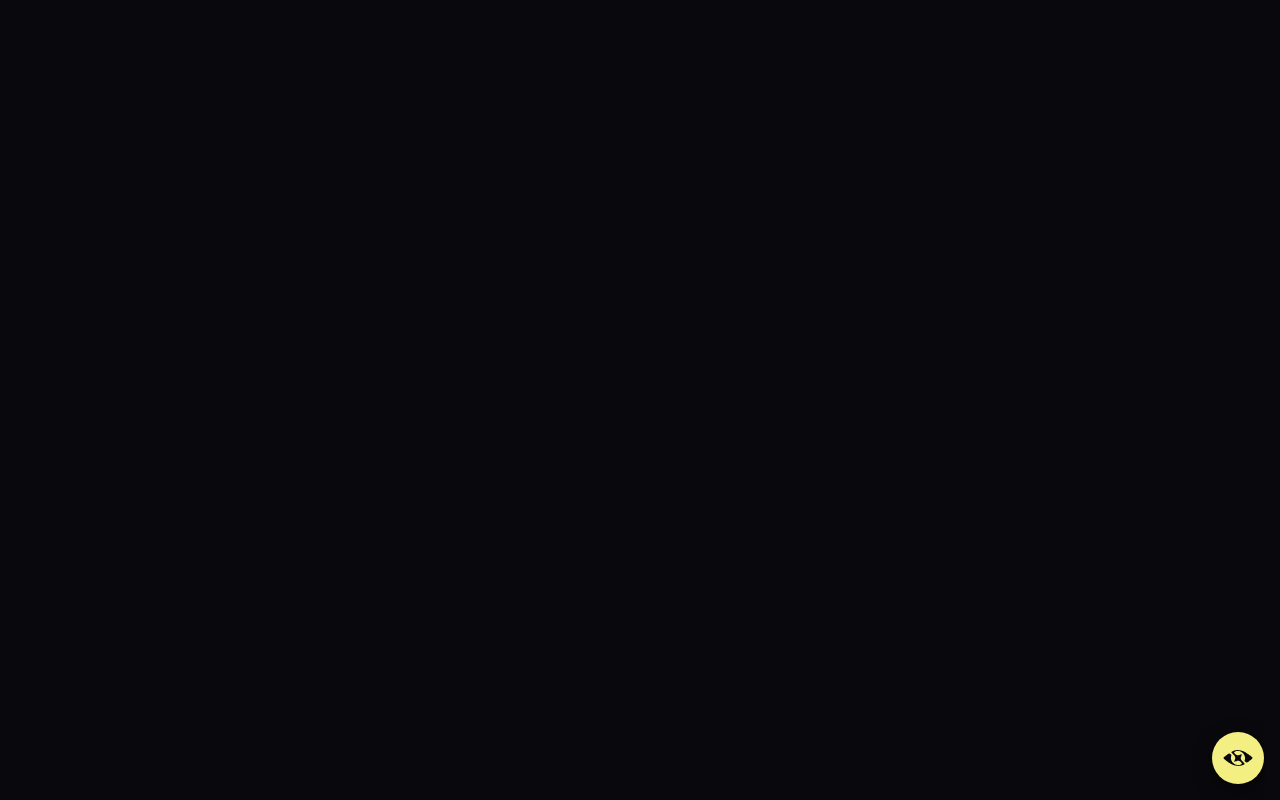
Test: StarChat › puts the target on screen first in The Eyes and does not link to it again
Later steps or results of the test are not shown.
Click the button with class "star-chat__fab". click: (1238, 758)
box: [1212,732,1264,784]
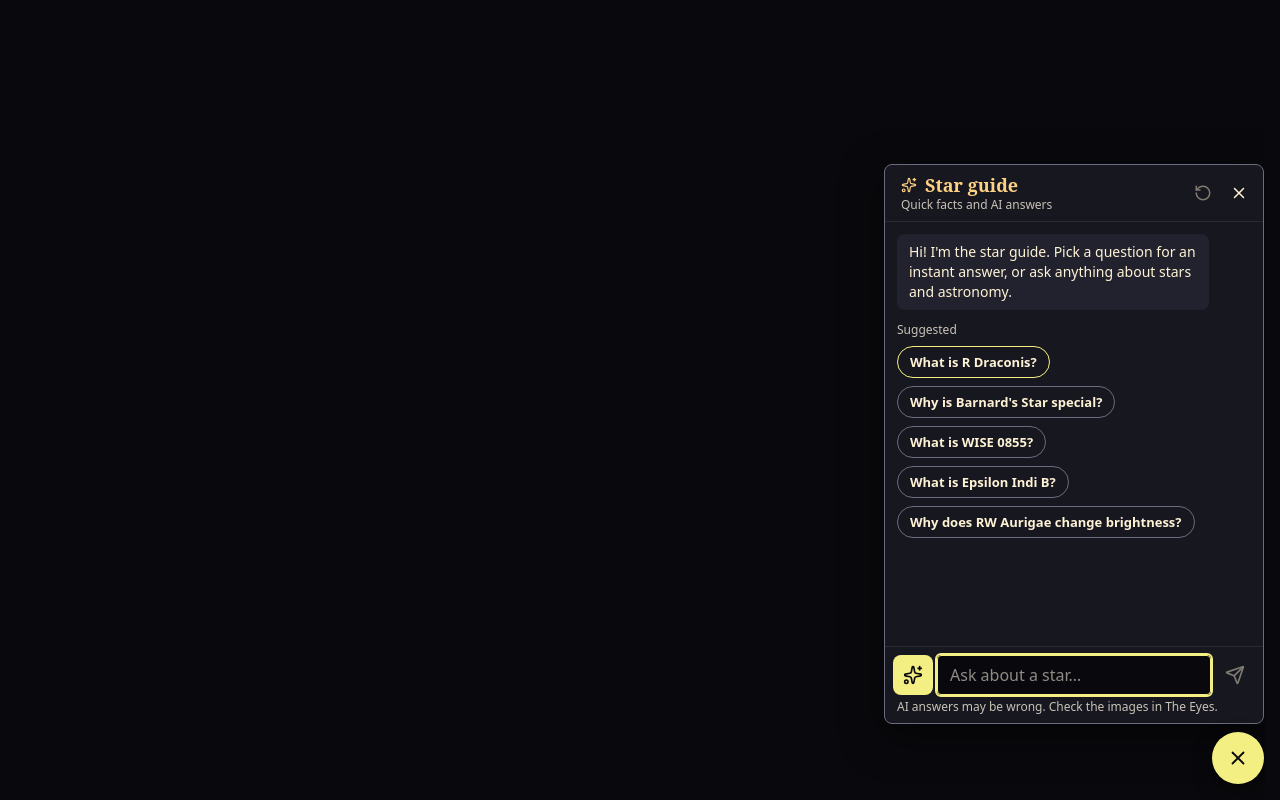
Expected: the button with class "chip" reads "What is R Draconis?", [897,346,1050,378]
